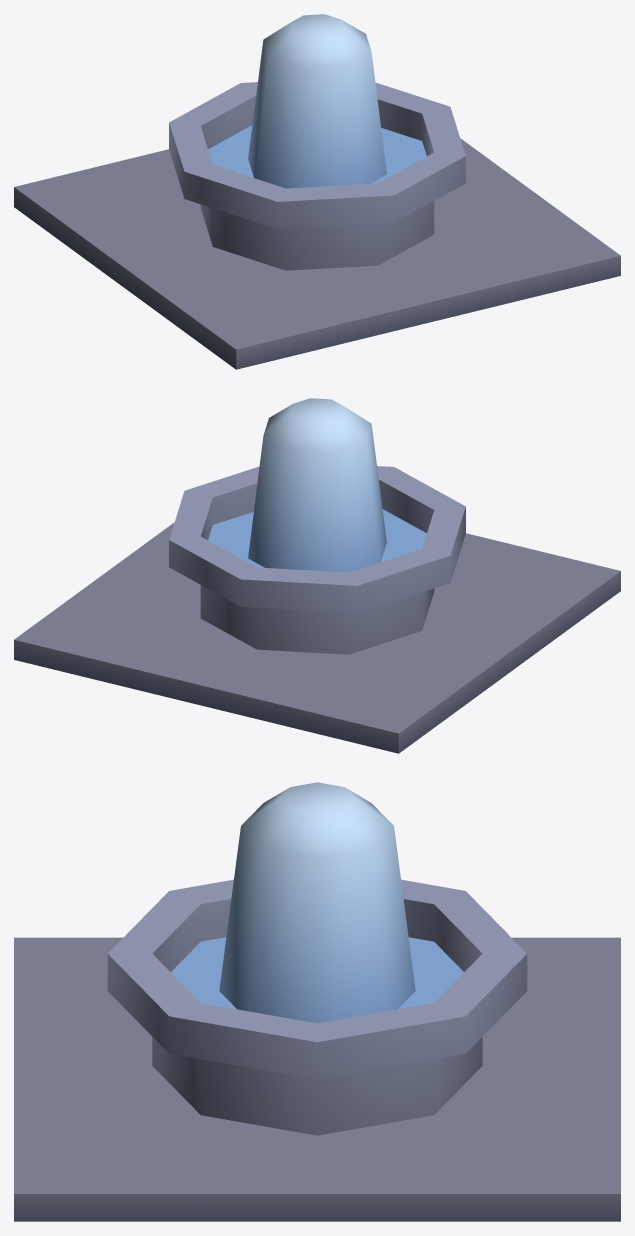
The model's file is fountain.glb.
The picture shows the model from 3 angles, top to bottom: view 1: azimuth 30°, elevation 25°; view 2: azimuth 150°, elevation 25°; view 3: azimuth 270°, elevation 25°; orthographic projection. The views are drawn at different scales.
Visible parts, largest first — view 1: pavement-fountain; view 2: pavement-fountain; view 3: pavement-fountain.
Part boxes in pixels (x1,y1,x2,y2): pavement-fountain: (14, 14, 620, 369); pavement-fountain: (14, 398, 620, 753); pavement-fountain: (14, 782, 620, 1221).
Bounding box in the file's own units: 1 × 0.536 × 1.
Materials: 1 (1 with a texture image).
